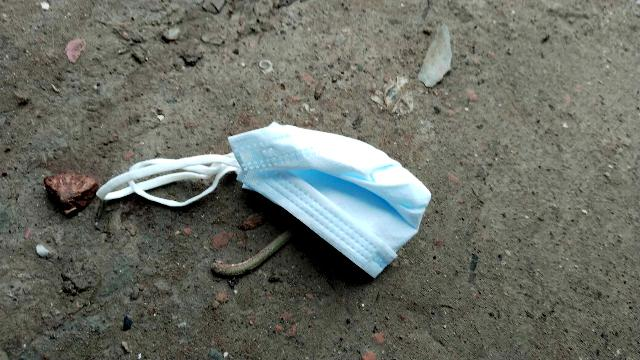mask: (94, 101, 491, 308)
